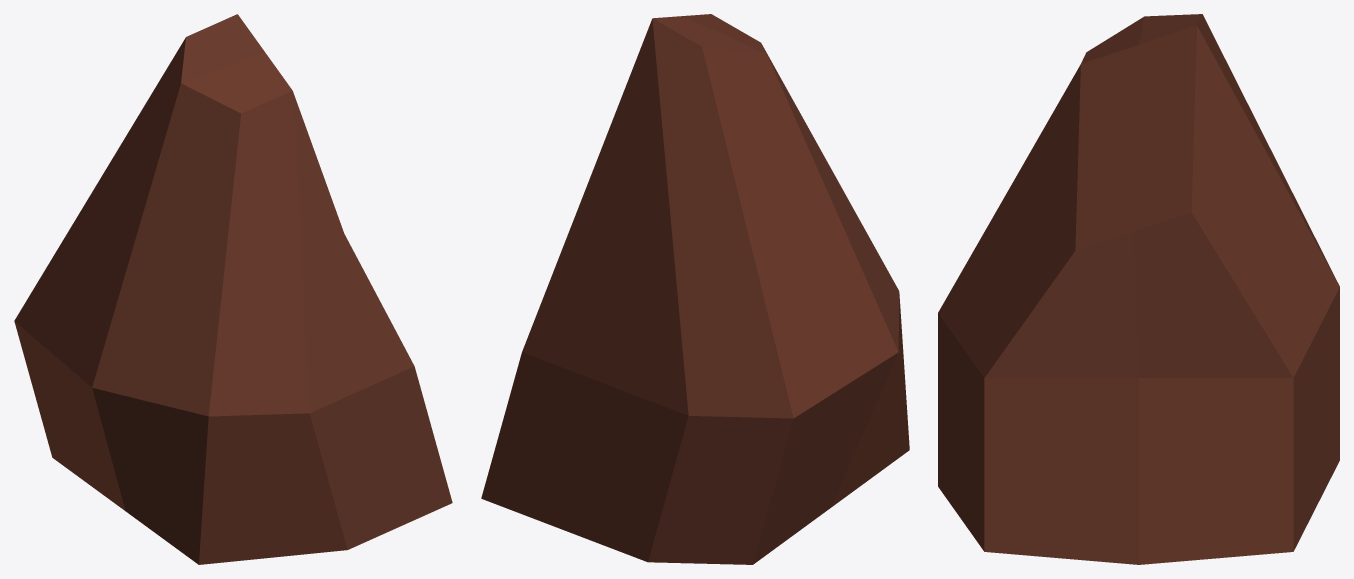
The model's file is Rock 3.fbx.
The picture shows the model from 3 angles, left to right: view 1: azimuth 30°, elevation 25°; view 2: azimuth 150°, elevation 25°; view 3: azimuth 270°, elevation 25°; orthographic projection. The views are drawn at different scales.
Visible parts, largest first — view 1: Rock 3; view 2: Rock 3; view 3: Rock 3.
Boxes of the visible parts, x1,y1,x2,y2 form: Rock 3: (14,14,452,564); Rock 3: (481,14,909,564); Rock 3: (938,14,1339,564).
Bounding box in the file's own units: 258 × 334 × 260.
